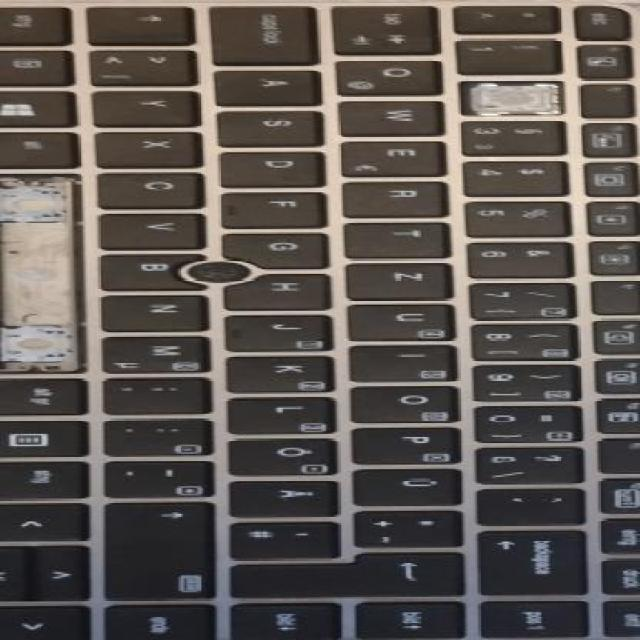Keyboard problems: (0, 178, 78, 371), (465, 83, 558, 114)
